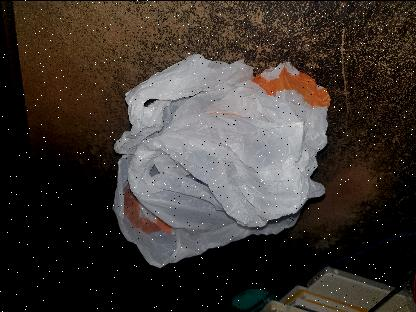Others: (112, 50, 328, 270)
